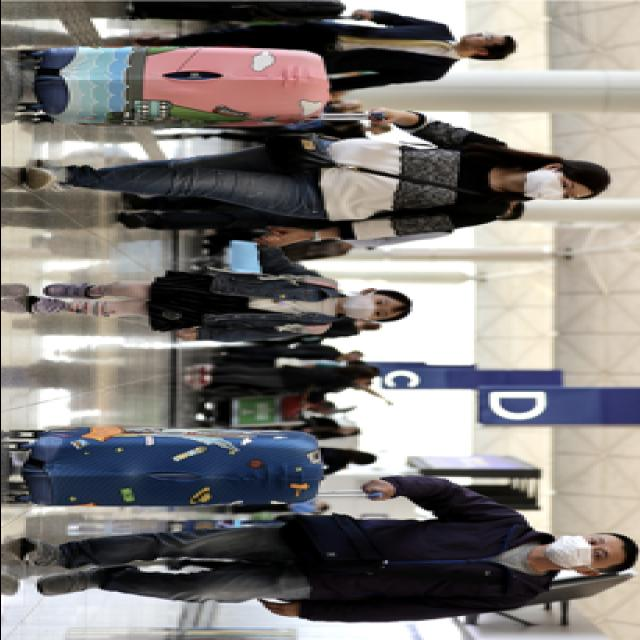with_mask: (543, 534, 615, 570), (520, 170, 584, 200), (342, 294, 395, 320)
without_mask: (465, 30, 501, 46)
